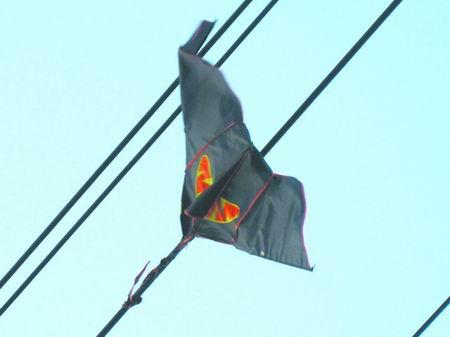kite: (175, 19, 317, 277)
